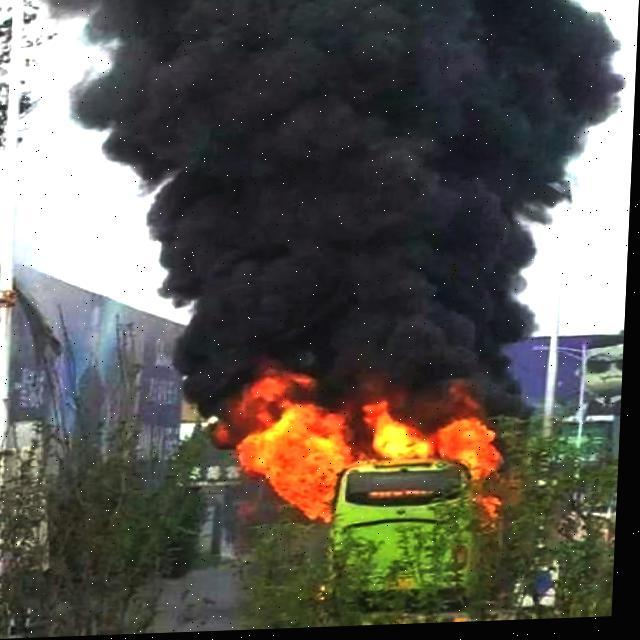Fire: (213, 338, 522, 530)
